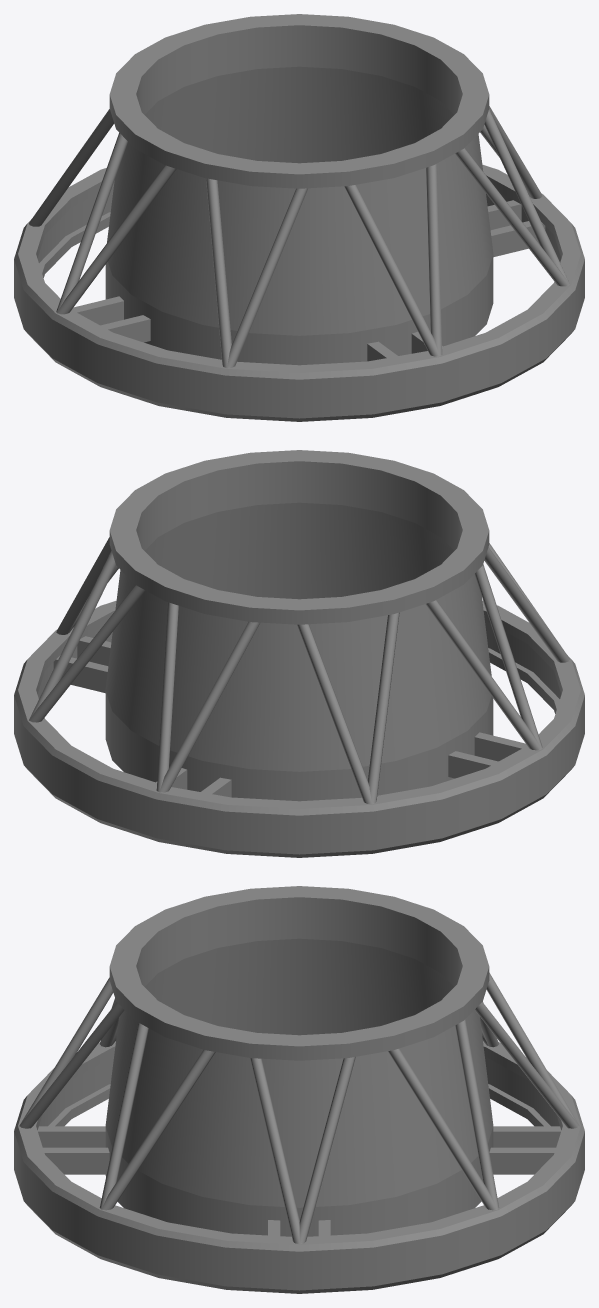
Rendered from DeltaK_FairingTank.dae.
3 views of the same model, one above another, from view 1: azimuth 30°, elevation 25°; view 2: azimuth 150°, elevation 25°; view 3: azimuth 270°, elevation 25° (orthographic).
Parts seen in each view (by area): view 1: DeltaK_FairingTank1, DeltaK_FairingTank, Stroot_ncl1_7, Stroot_ncl1_6, IAmStroot, IAmStroot_ncl1_7, Stroot, IAmStroot_ncl1_6, IAmStroot_ncl1_1, Stroot_ncl1_1, Stroot_ncl1_5, FairingConnector_ncl1_3 (+4 smaller); view 2: DeltaK_FairingTank1, DeltaK_FairingTank, IAmStroot_ncl1_5, Stroot_ncl1_4, Stroot_ncl1_5, IAmStroot_ncl1_6, Stroot_ncl1_6, IAmStroot_ncl1_4, Stroot_ncl1_3, IAmStroot_ncl1_3, IAmStroot_ncl1_7, Stroot_ncl1_2 (+3 smaller); view 3: DeltaK_FairingTank1, DeltaK_FairingTank, Stroot_ncl1_2, Stroot_ncl1_1, IAmStroot_ncl1_2, IAmStroot_ncl1_3, Stroot_ncl1_3, IAmStroot_ncl1_1, IAmStroot_ncl1_4, Stroot, FairingConnector1, FairingConnector_ncl1_2 (+4 smaller).
Part boxes in pixels (left/top/right/bottom): DeltaK_FairingTank1: left=105, top=14, right=493, bottom=365; DeltaK_FairingTank: left=14, top=164, right=584, bottom=421; Stroot_ncl1_7: left=224, top=188, right=307, bottom=368; Stroot_ncl1_6: left=56, top=165, right=176, bottom=314; IAmStroot: left=344, top=185, right=441, bottom=356; IAmStroot_ncl1_7: left=206, top=178, right=231, bottom=368; Stroot: left=426, top=163, right=442, bottom=356; IAmStroot_ncl1_6: left=56, top=132, right=127, bottom=313; IAmStroot_ncl1_1: left=455, top=148, right=569, bottom=286; Stroot_ncl1_1: left=484, top=109, right=569, bottom=285; Stroot_ncl1_5: left=29, top=110, right=114, bottom=226; FairingConnector_ncl1_3: left=72, top=296, right=123, bottom=325; DeltaK_FairingTank1: left=105, top=450, right=493, bottom=801; DeltaK_FairingTank: left=14, top=600, right=584, bottom=857; IAmStroot_ncl1_5: left=297, top=624, right=374, bottom=804; Stroot_ncl1_4: left=157, top=621, right=259, bottom=792; Stroot_ncl1_5: left=368, top=612, right=399, bottom=804; IAmStroot_ncl1_6: left=425, top=600, right=542, bottom=750; Stroot_ncl1_6: left=474, top=564, right=542, bottom=749; IAmStroot_ncl1_4: left=156, top=602, right=178, bottom=792; Stroot_ncl1_3: left=29, top=585, right=145, bottom=722; IAmStroot_ncl1_3: left=29, top=550, right=115, bottom=721; IAmStroot_ncl1_7: left=484, top=547, right=569, bottom=662; Stroot_ncl1_2: left=56, top=537, right=111, bottom=634; DeltaK_FairingTank1: left=105, top=886, right=493, bottom=1236; DeltaK_FairingTank: left=14, top=1041, right=584, bottom=1293; Stroot_ncl1_2: left=295, top=1057, right=355, bottom=1244; Stroot_ncl1_1: left=100, top=1050, right=215, bottom=1210; IAmStroot_ncl1_2: left=250, top=1058, right=301, bottom=1244; IAmStroot_ncl1_3: left=388, top=1048, right=498, bottom=1210; Stroot_ncl1_3: left=455, top=1019, right=499, bottom=1210; IAmStroot_ncl1_1: left=100, top=1022, right=148, bottom=1210; IAmStroot_ncl1_4: left=475, top=1002, right=579, bottom=1128; Stroot: left=19, top=1002, right=124, bottom=1128; FairingConnector1: left=43, top=1147, right=109, bottom=1174; FairingConnector_ncl1_2: left=489, top=1147, right=555, bottom=1174.
Size of the model in its own units: 1.52 by 0.6138 by 1.52.
